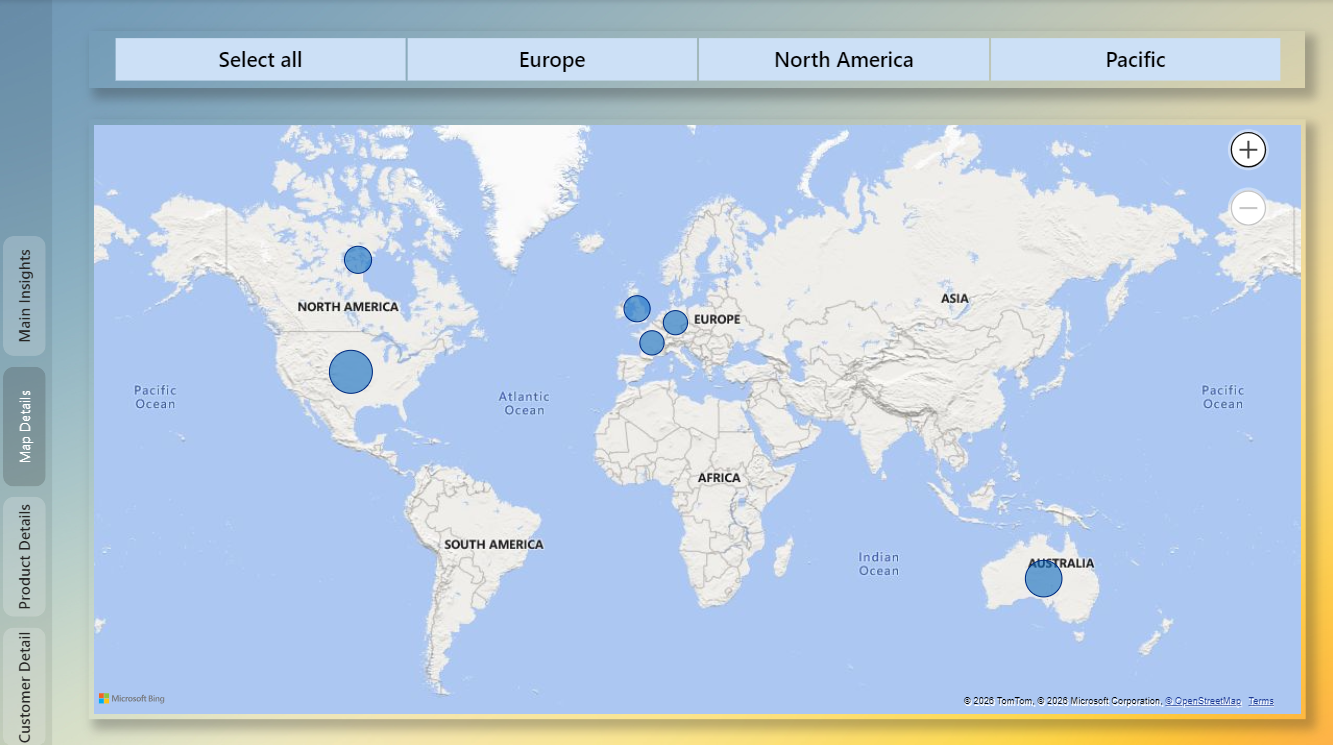

What the dashboard file says about the page in this screenshot:
{"tool":"powerbi","page":{"name":"Map Details","canvas":[1280,720],"ordinal":1},"visuals":[{"type":"map","fields":{"Category":["Territory Lookup.Country"],"Size":["Measure Table.Total Orders"]},"box":[85,115,1166.7,575],"z":0},{"type":"slicer","fields":{"Values":["Territory Lookup.Continent"]},"box":[85,30,1166.7,55],"z":1000},{"type":"shape","box":[0,0,50,720],"z":2000},{"type":"pageNavigator","box":[3.3,226.7,41.7,493.3],"z":3000}]}

Visuals, with their boxes in screenshot pixels (x1, y1, x2, y2):
map - Territory Lookup.Country x Measure Table.Total Orders: (20,85,1302,716)
slicer - Territory Lookup.Continent: (20,0,1302,52)
